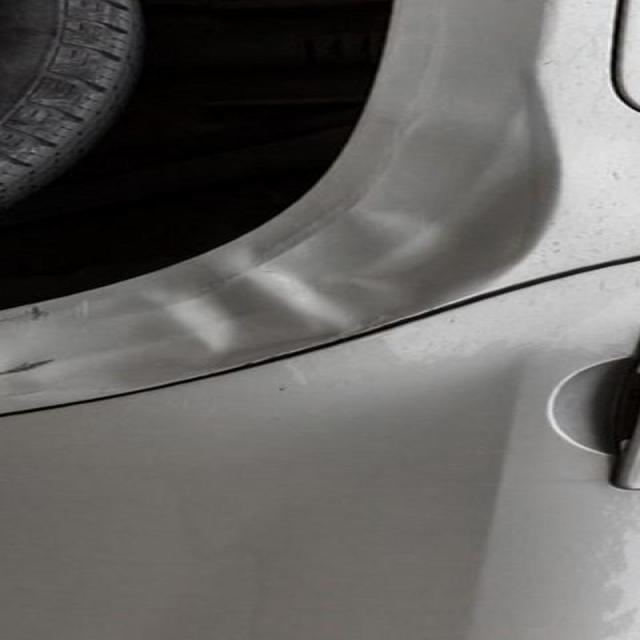dent: (62, 155, 550, 380)
